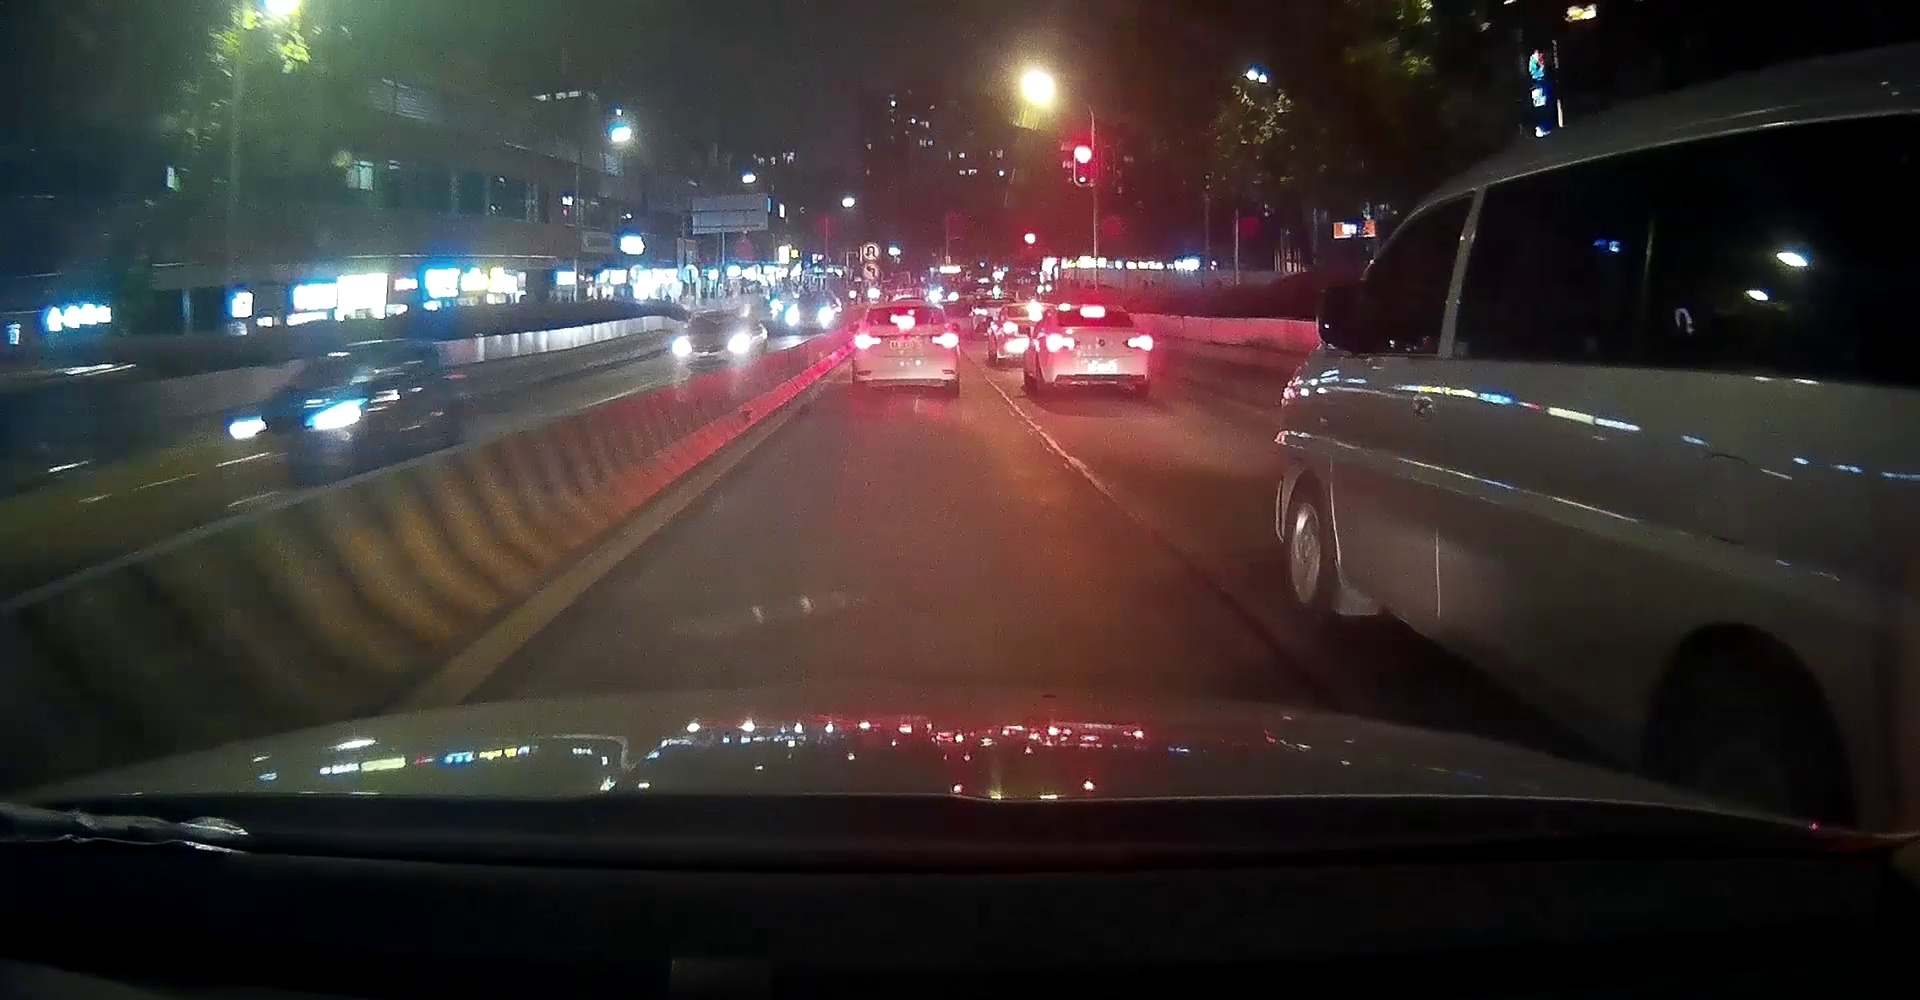L_light: (853, 335, 880, 346), (1048, 338, 1079, 346)
R_light: (930, 335, 957, 345), (1121, 339, 1149, 349)
T_light: (1079, 308, 1105, 313), (893, 321, 916, 326)
night-brake: (851, 299, 959, 393), (1044, 305, 1150, 398)
